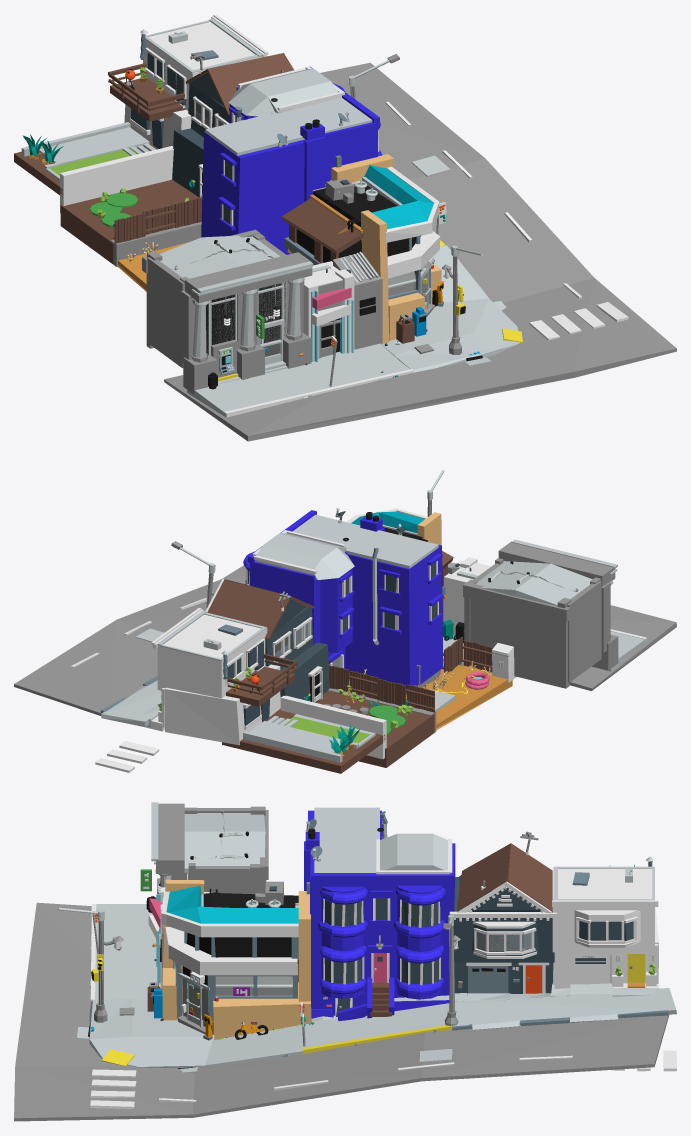
File: Mirror Town New.fbx
The picture shows the model from 3 angles, top to bottom: view 1: azimuth 30°, elevation 25°; view 2: azimuth 150°, elevation 25°; view 3: azimuth 270°, elevation 25°; orthographic projection. The views are drawn at different scales.
Visible parts, largest first — view 1: group892455447, group1855824391, group1105155231, group1179754258, group1933068889, group998772054, group1350899225, group247688703, group522730016, group1421539807, group1348016452, group512663821 (+35 smaller); view 2: group892455447, group1855824391, group284740563, group247688703, group562006303, group1933068889, group522730016, group1421539807, group1348016452, group1667746924, group1350899225, group1583477956 (+27 smaller); view 3: group892455447, group1105155231, group1583477956, group247688703, group1179754258, group1933068889, group522730016, group1983641924, group290091007, group1671810338, group1362634429, group1348016452 (+43 smaller).
Boxes of the visible parts, x1,y1,x2,y2 form: group892455447: (164,62,676,441); group1855824391: (201,131,305,254); group1105155231: (380,245,519,372); group1179754258: (187,343,409,416); group1933068889: (205,98,372,155); group998772054: (60,146,173,213); group1350899225: (60,179,198,264); group247688703: (143,22,262,110); group522730016: (159,235,280,278); group1421539807: (147,257,184,368); group1348016452: (228,68,338,116); group512663821: (181,290,217,394); group892455447: (14,565,676,715); group1855824391: (345,545,442,688); group284740563: (470,599,569,688); group247688703: (157,614,267,698); group562006303: (164,664,280,745); group1933068889: (292,514,438,568); group522730016: (475,561,592,605); group1421539807: (567,581,601,682); group1348016452: (255,533,354,579); group1667746924: (207,580,290,639); group1350899225: (316,691,434,767); group1583477956: (250,552,347,668); group892455447: (14,902,669,1121); group1105155231: (89,988,676,1068); group1583477956: (310,843,455,1015); group247688703: (552,867,654,952); group1179754258: (95,904,161,999); group1933068889: (314,807,379,872); group522730016: (184,813,265,873); group1983641924: (213,982,311,1039); group290091007: (165,927,297,975); group1671810338: (186,893,298,963); group1362634429: (166,885,298,923); group1348016452: (380,833,447,870).
Bounding box in the file's own units: 577 × 236 × 760.
